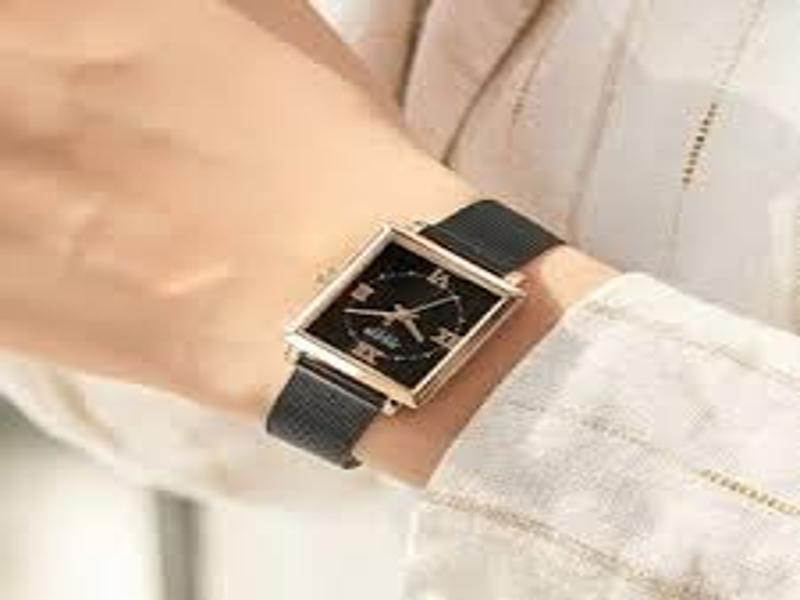watch: (263, 198, 569, 472)
